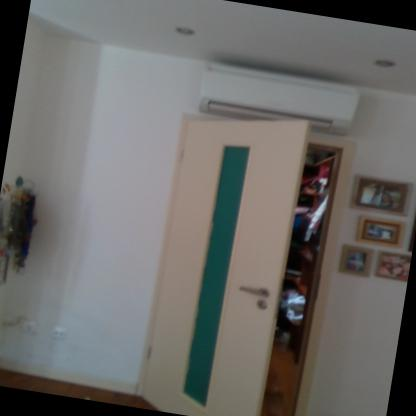semi: (130, 108, 359, 415)
